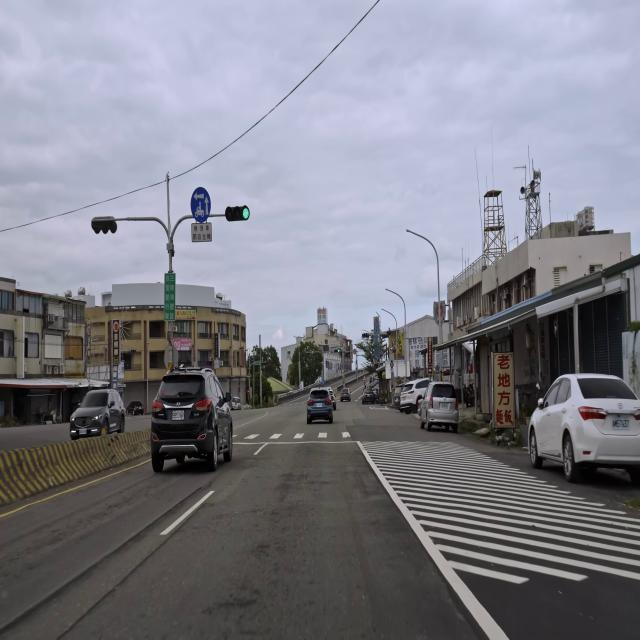green light: (224, 204, 250, 223)
